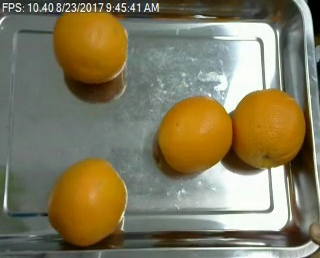Orange: (48, 159, 128, 246), (231, 88, 306, 169), (53, 7, 129, 83), (158, 94, 232, 172)
